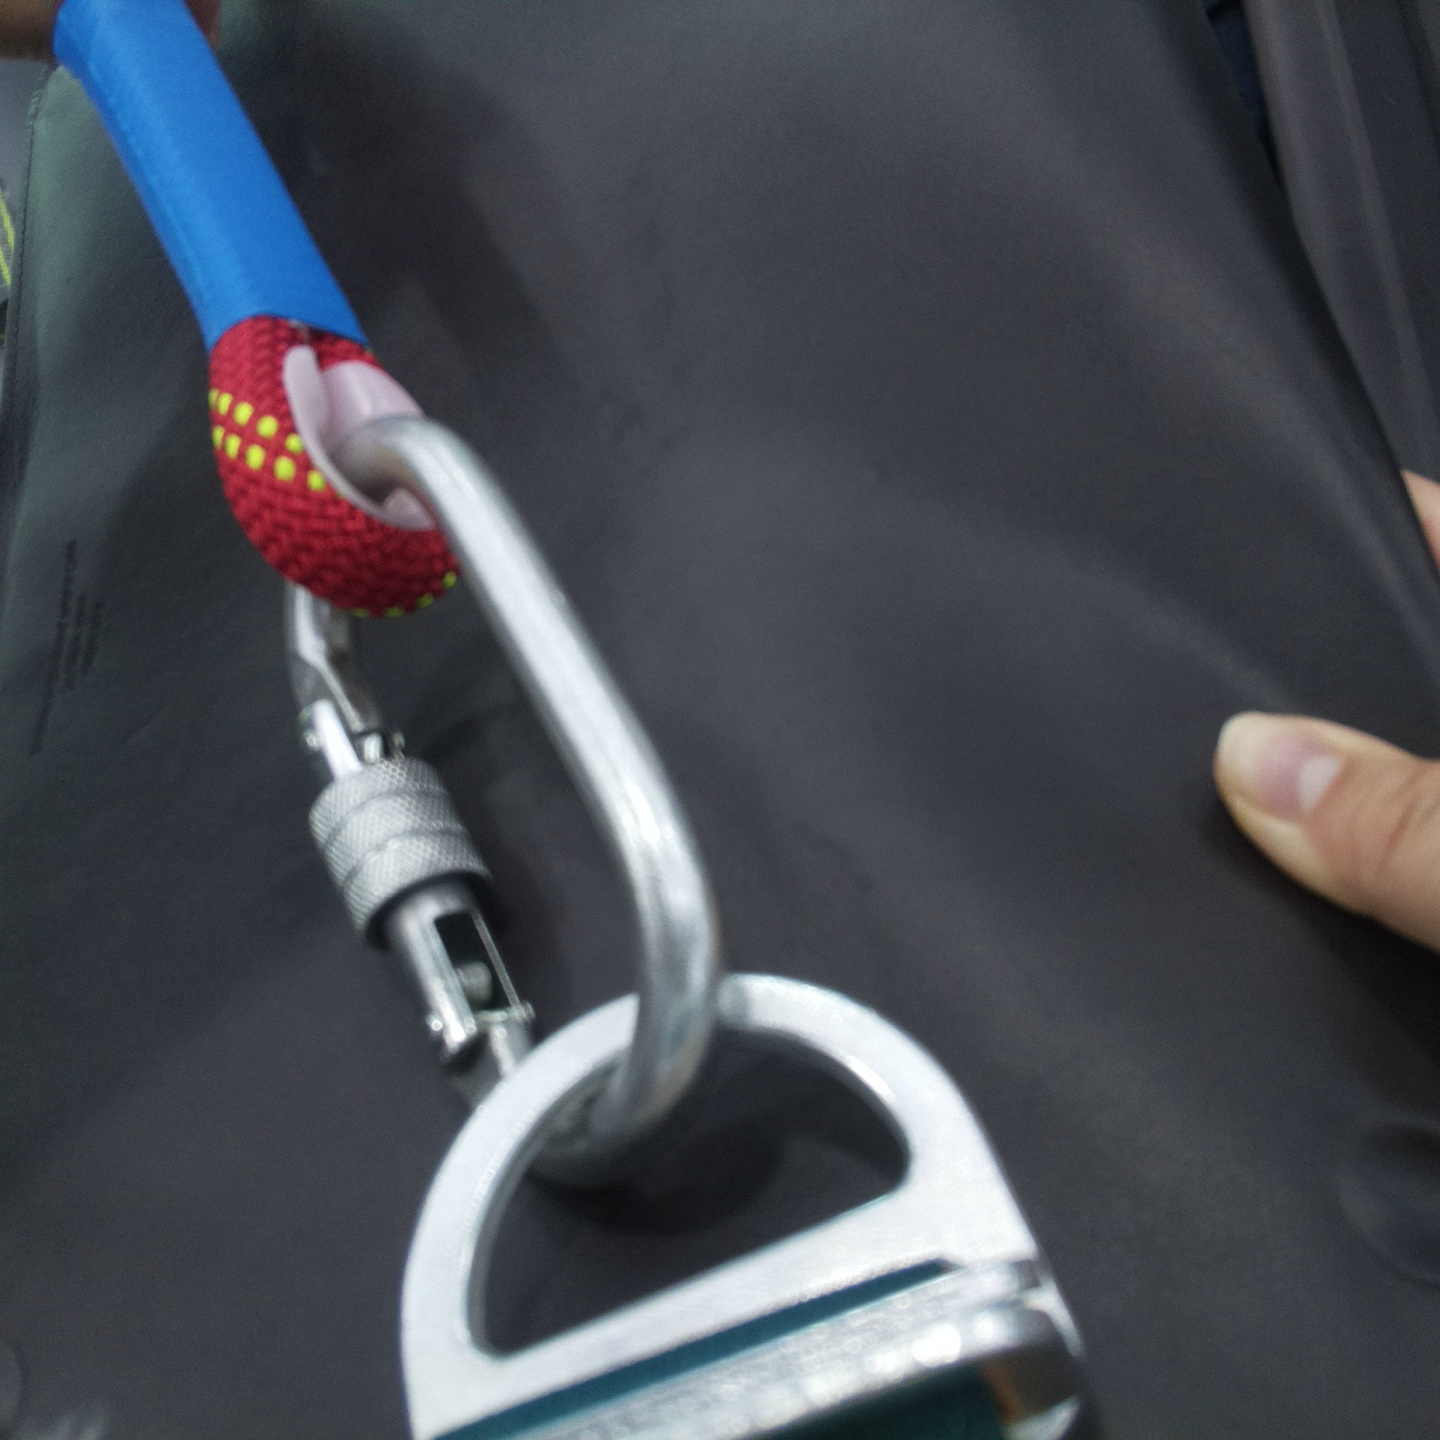SUCCESS: (237, 620, 1079, 1390)
